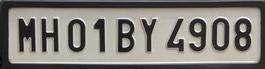character: (40, 15, 60, 53), (17, 16, 37, 53), (139, 16, 158, 53), (66, 17, 86, 52), (210, 16, 230, 51), (166, 16, 185, 52), (188, 17, 207, 52), (233, 17, 252, 52), (117, 17, 135, 53), (93, 17, 106, 53)
